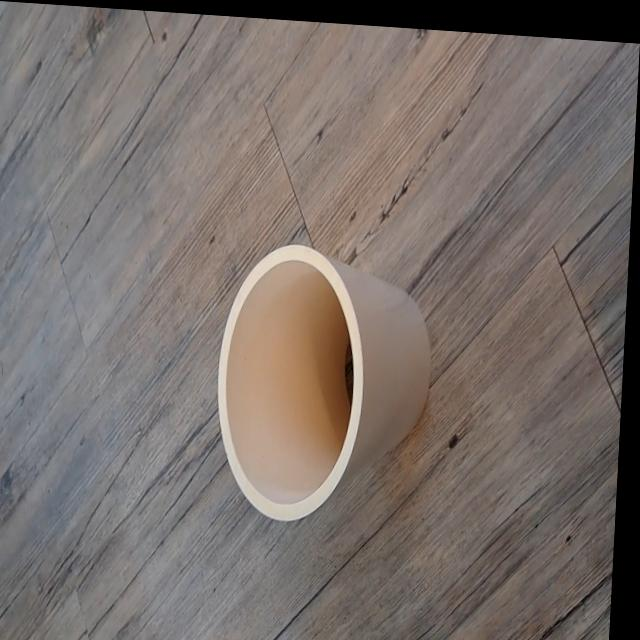CORAL: (193, 212, 457, 558)
